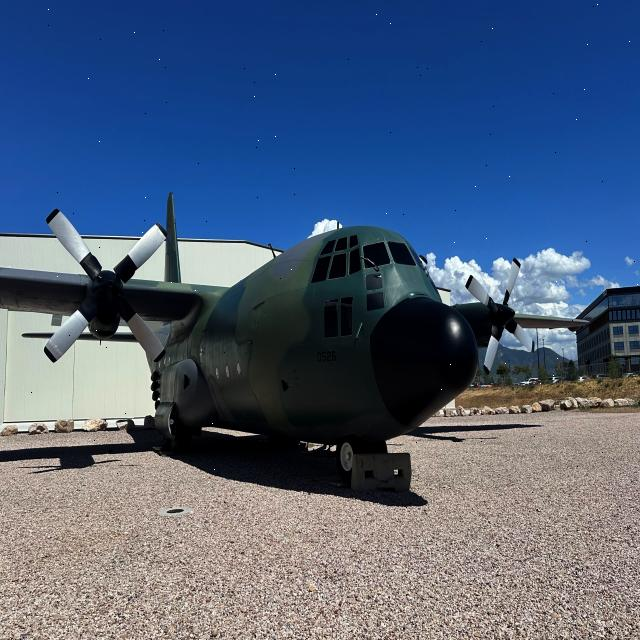C130: (2, 108, 528, 522)
